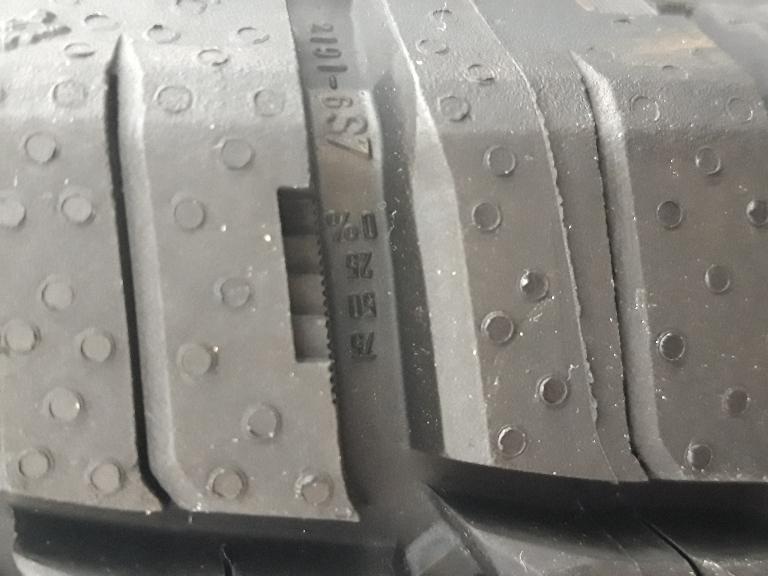temoin:100: (269, 174, 345, 412)
